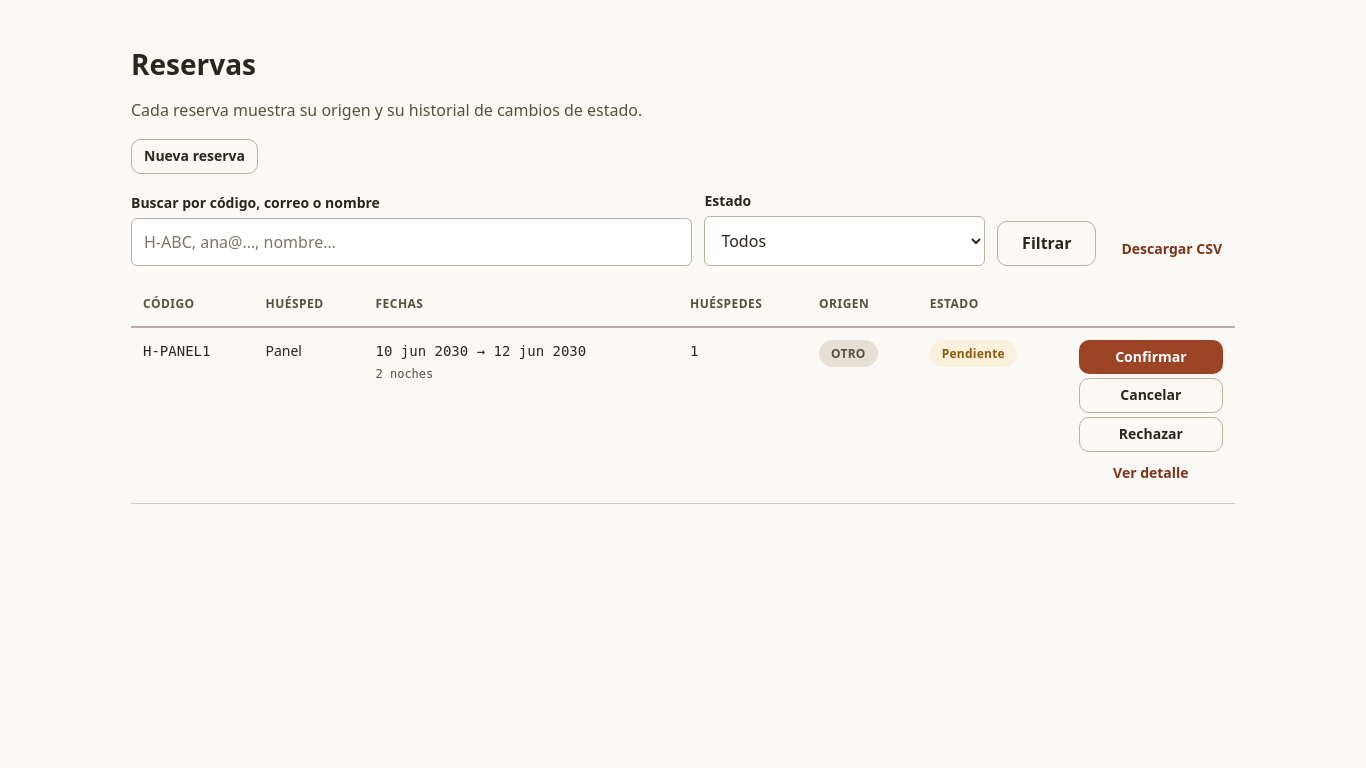
Test: cambiar huespedes desde el panel › una reserva vigente ofrece el formulario con el grupo actual
Expected: the heading "Reservas" is shown, [131,45,256,83]
Click the button "Ver detalle". click: (1151, 473)
box: [1079,456,1223,491]
(page scrolled)
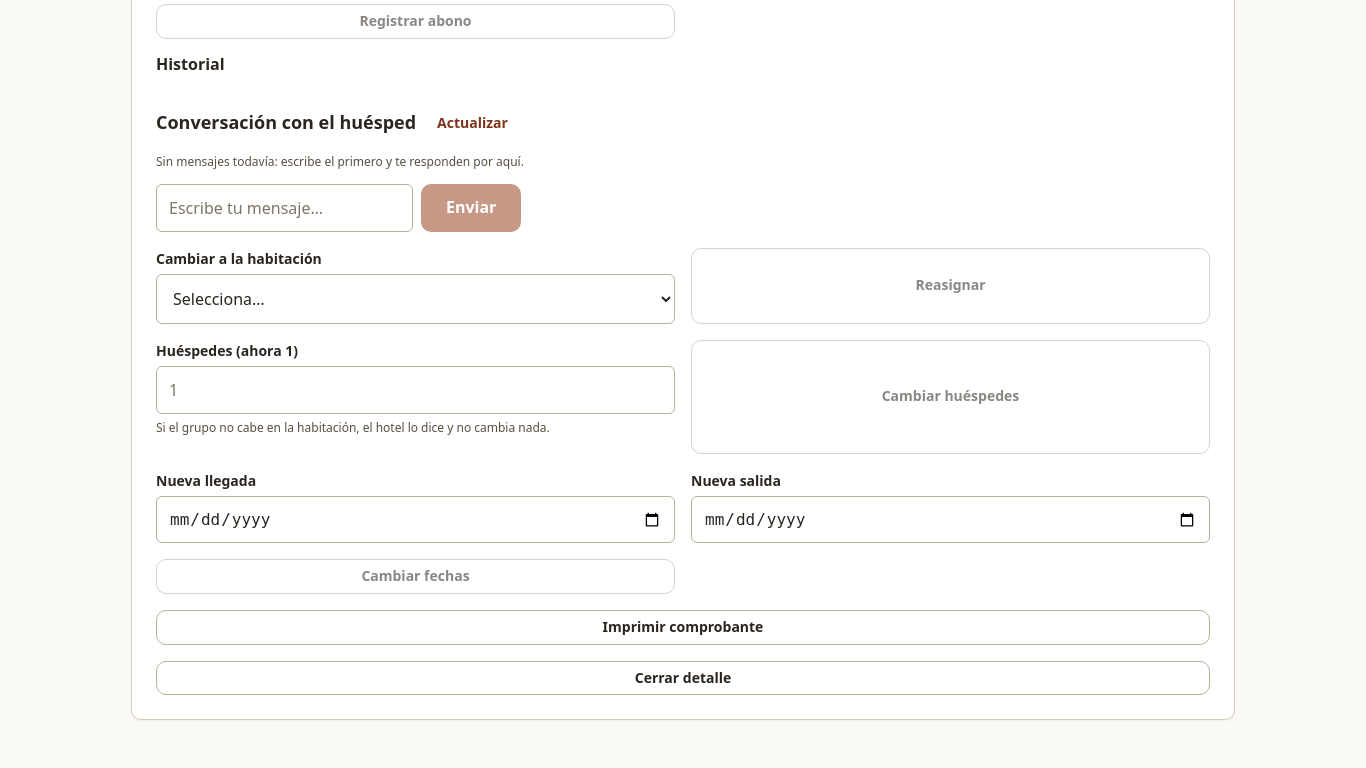
Expected: the number field with id "grupo-huespedes" is shown, [156,366,675,414]
Expected: the text "Huéspedes (ahora 1)" is shown, [156,341,298,360]
Expected: the button "Cambiar huéspedes" is shown, [691,340,1210,454]
